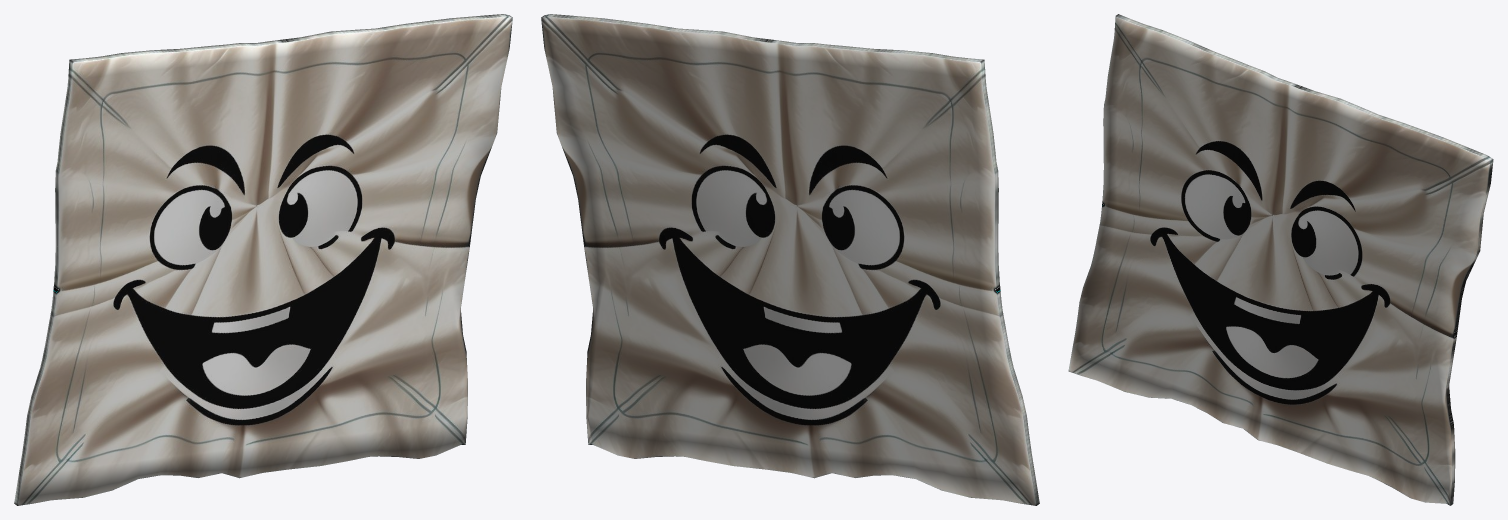
The model's file is 3d_papel_2_special.gltf.
The picture shows the model from 3 angles, left to right: view 1: azimuth 30°, elevation 25°; view 2: azimuth 150°, elevation 25°; view 3: azimuth 330°, elevation 25°; orthographic projection. The views are drawn at different scales.
Visible parts, largest first — view 1: Plane; view 2: Plane; view 3: Plane.
Boxes of the visible parts, x1,y1,x2,y2 form: Plane: (14, 14, 512, 505); Plane: (541, 14, 1039, 505); Plane: (1068, 14, 1493, 505).
Size of the model in its own units: 4.08 by 3.8 by 0.0462.
Materials: 1 (1 with a texture image).
